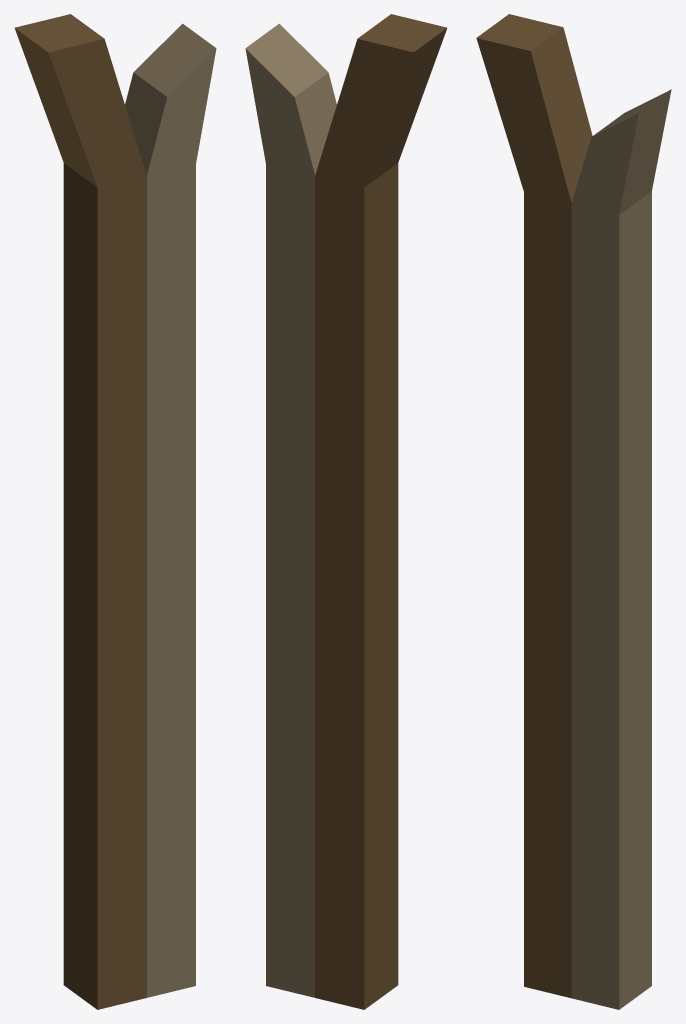
Rendered from tree-stock-big.fbx.
3 renders of one model, left to right at view 1: azimuth 30°, elevation 25°; view 2: azimuth 150°, elevation 25°; view 3: azimuth 330°, elevation 25°, orthographic. The views are drawn at different scales.
Parts seen in each view (by area): view 1: Plane; view 2: Plane; view 3: Plane.
Boxes of the visible parts, x1,y1,x2,y2 form: Plane: (14, 14, 216, 1009); Plane: (245, 14, 447, 1009); Plane: (476, 14, 671, 1009).
Size of the model in its own units: 7170 by 39500 by 2500.
